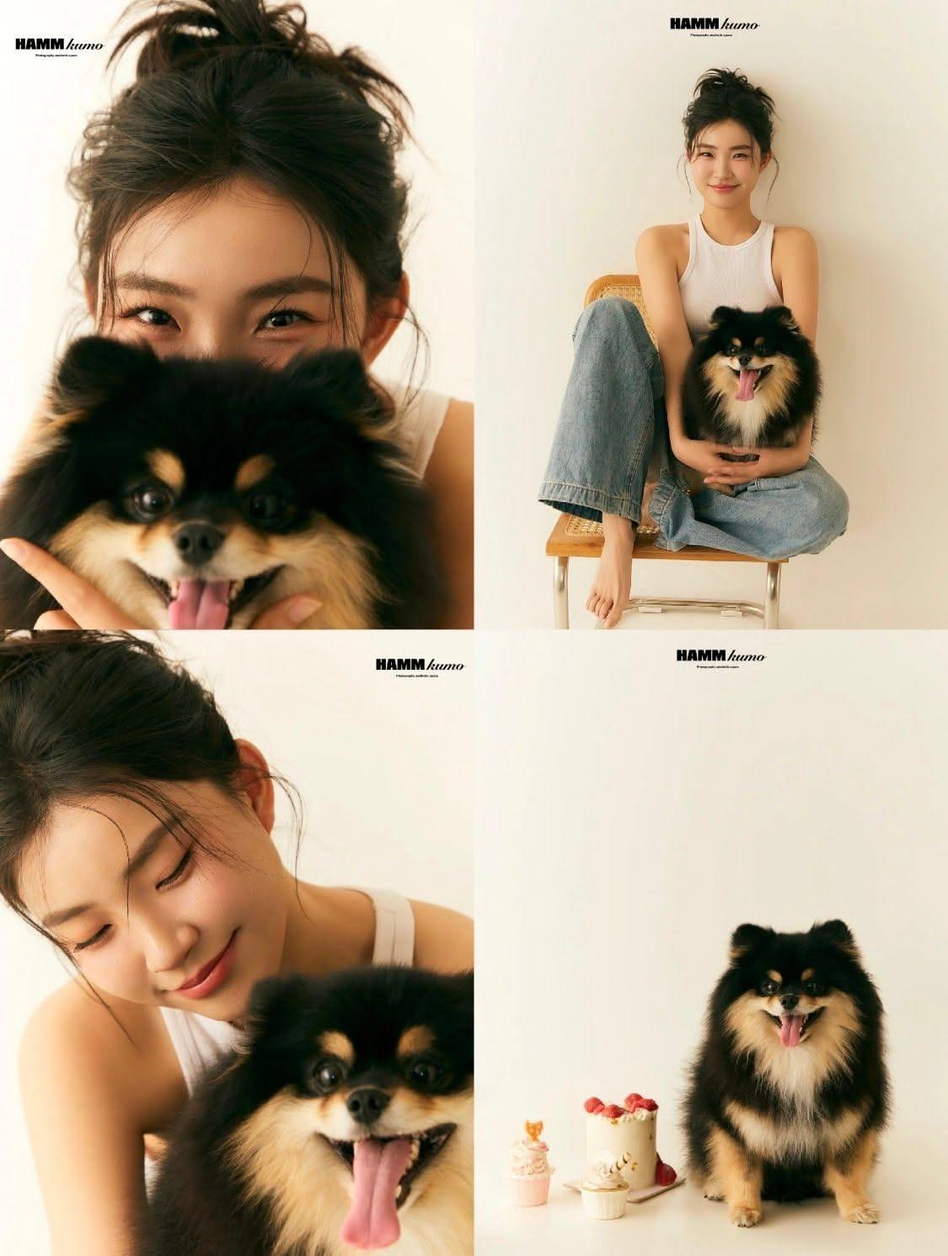adult_dog: (1, 334, 448, 630), (146, 966, 476, 1256), (682, 918, 892, 1225), (678, 304, 822, 499)
